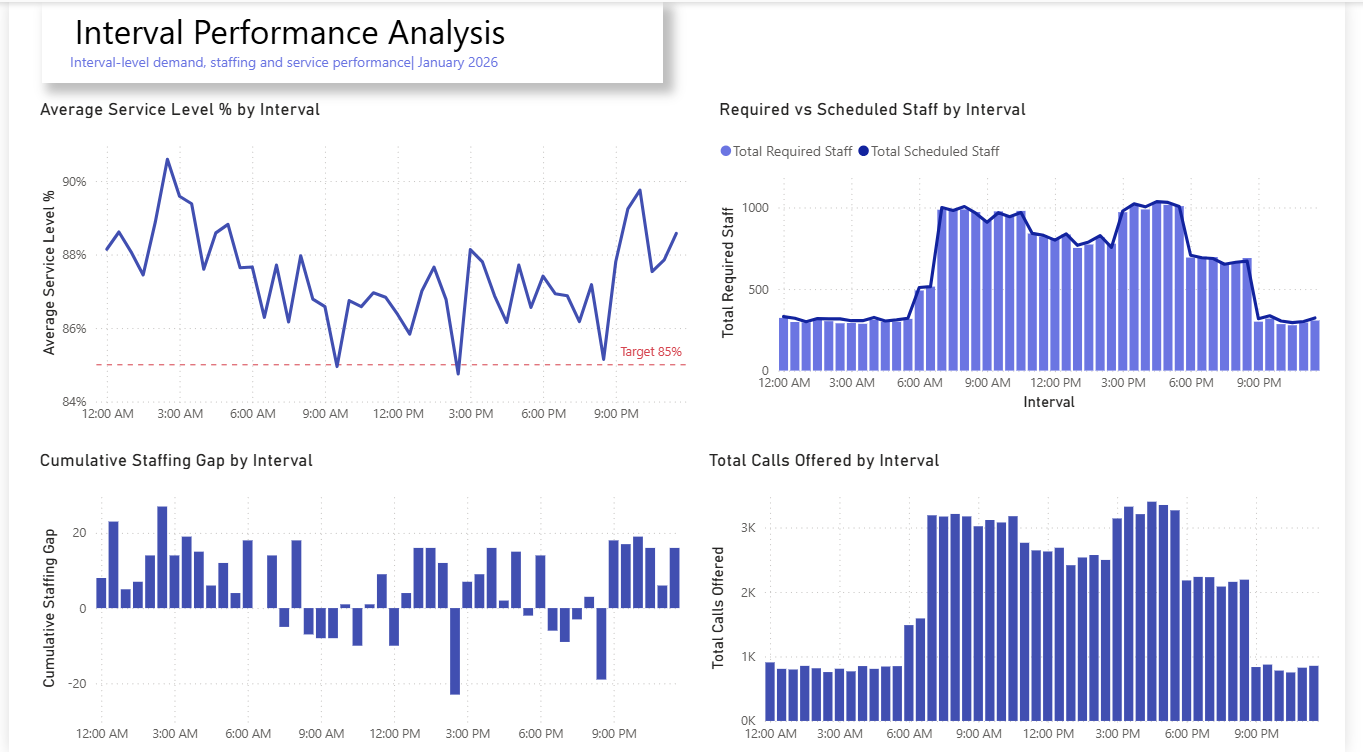

The dashboard page shown, as its layout file describes it:
{"tool":"powerbi","page":{"name":"Interval & Performance Analysis","canvas":[1280,720],"ordinal":2},"visuals":[{"type":"textbox","box":[31.8,0,595.1,77.2],"z":0,"group":"g1"},{"type":"lineChart","fields":{"Category":["Call Center Data.Interval"],"Y":["Call Center Data.Avg Service Level %"]},"box":[24.2,92.4,642,321],"z":0},{"type":"lineClusteredColumnComboChart","fields":{"Category":["Call Center Data.Interval"],"Y":["Call Center Data.Total Calls Offered"]},"box":[666.3,428.5,613.3,290.7],"z":1000},{"type":"lineClusteredColumnComboChart","title":"Required vs Scheduled Staff by Interval","fields":{"Category":["Call Center Data.Interval"],"Y":["Call Center Data.Total Required Staff"],"Y2":["Call Center Data.Total Scheduled Staff"]},"box":[675.3,92.4,604.2,304.4],"z":2000},{"type":"clusteredColumnChart","title":"Cumulative Staffing Gap by Interval","fields":{"Category":["Call Center Data.Interval"],"Y":["Call Center Data.Cumulative Staffing Gap"]},"box":[24.2,428.5,642,290.7],"z":3000},{"type":"group","id":"g1","title":"Group 3","box":[31.8,0,595.1,77.2],"z":3001}]}

Visuals, with their boxes in screenshot pixels (x1, y1, x2, y2), scaled from the page's 1280x720 canvas onto the 1363x752 screenshot:
textbox: {"left": 34, "top": 0, "right": 668, "bottom": 81}
lineChart - Call Center Data.Interval x Call Center Data.Avg Service Level %: {"left": 26, "top": 97, "right": 709, "bottom": 432}
lineClusteredColumnComboChart - Call Center Data.Interval x Call Center Data.Total Calls Offered: {"left": 710, "top": 448, "right": 1362, "bottom": 751}
"Required vs Scheduled Staff by Interval" lineClusteredColumnComboChart: {"left": 719, "top": 97, "right": 1362, "bottom": 414}
"Cumulative Staffing Gap by Interval" clusteredColumnChart: {"left": 26, "top": 448, "right": 709, "bottom": 751}
"Group 3" group: {"left": 34, "top": 0, "right": 668, "bottom": 81}
